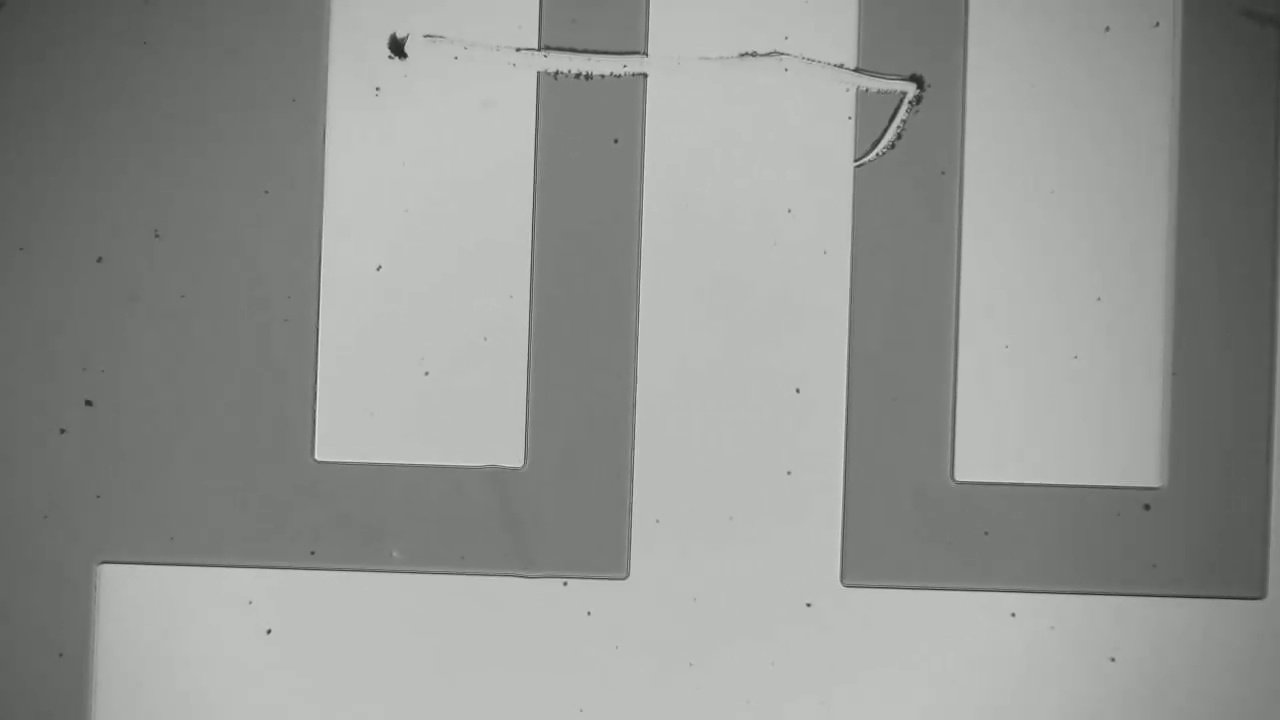Short_circuit: (514, 26, 677, 101), (817, 54, 987, 117)
